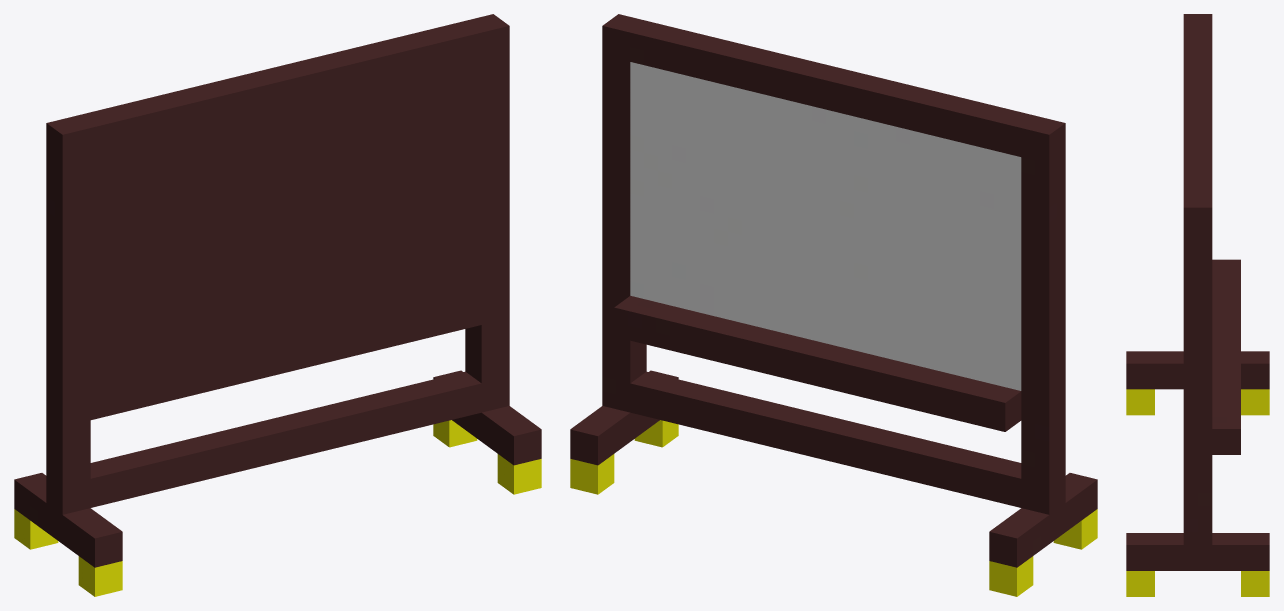
File: Whiteboard.gltf
3 renders of one model, left to right at view 1: azimuth 30°, elevation 25°; view 2: azimuth 150°, elevation 25°; view 3: azimuth 270°, elevation 25°, orthographic. The views are drawn at different scales.
Visible parts, largest first — view 1: cube (×12); view 2: cube (×12); view 3: cube (×9).
Part boxes in pixels (bbox=[...]): cube (×12): bbox=[14, 14, 541, 596]; cube (×12): bbox=[570, 14, 1097, 596]; cube (×9): bbox=[1126, 14, 1269, 596].
Bounding box in the file's own units: 1 × 0.9375 × 0.3125.
1 material, 1 textured.
